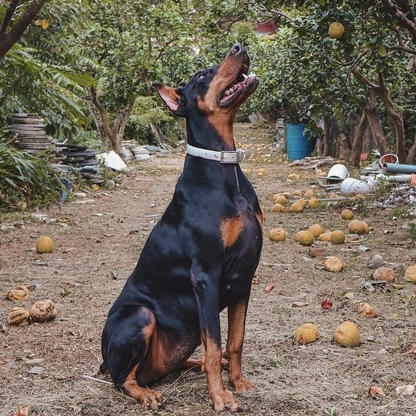doberman: (97, 45, 264, 416)
